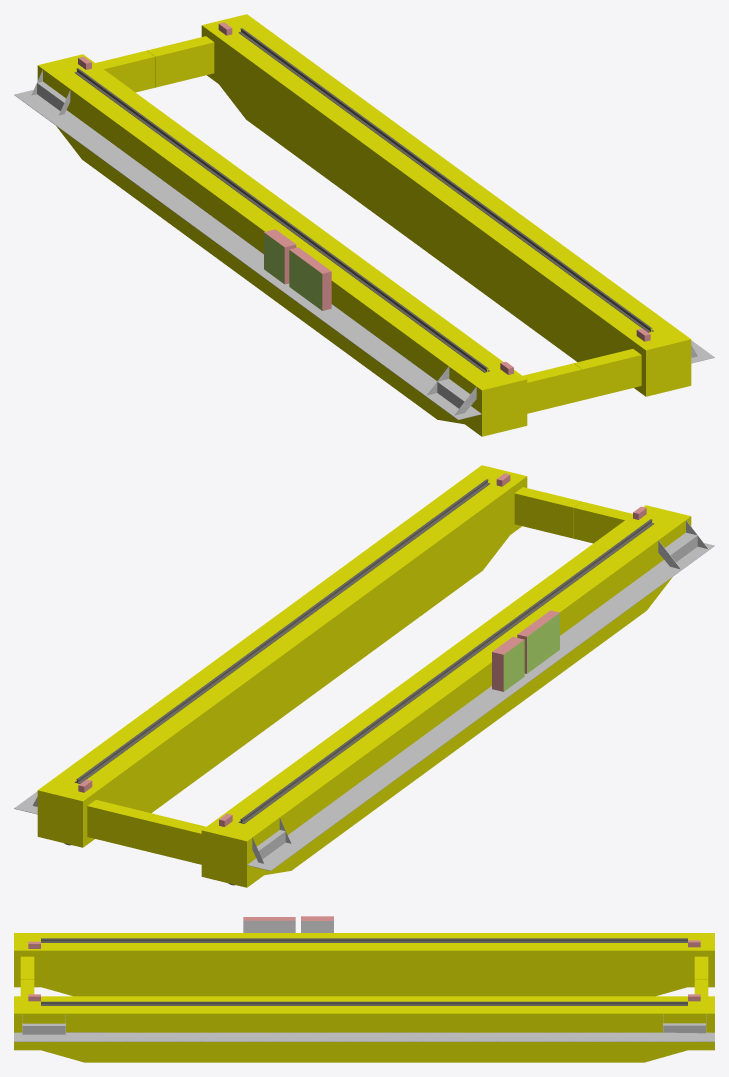
The model's file is crane_rails.dae.
3 renders of one model, top to bottom at view 1: azimuth 30°, elevation 25°; view 2: azimuth 150°, elevation 25°; view 3: azimuth 270°, elevation 25°, orthographic. The views are drawn at different scales.
Visible parts, largest first — view 1: mesh1-geometry_material1_IndexedFaceSet, mesh21-geometry_material1_IndexedFaceSet, mesh57-geometry_material5_IndexedFaceSet, mesh21-geometry_material0_IndexedFaceSet, mesh1-geometry_material0_IndexedFaceSet, mesh66-geometry_material6_IndexedFaceSet, mesh65-geometry_material6_IndexedFaceSet, mesh66-geometry_material2_IndexedFaceSet; view 2: mesh1-geometry_material1_IndexedFaceSet, mesh21-geometry_material1_IndexedFaceSet, mesh57-geometry_material5_IndexedFaceSet, mesh21-geometry_material0_IndexedFaceSet, mesh1-geometry_material0_IndexedFaceSet, mesh66-geometry_material6_IndexedFaceSet, mesh65-geometry_material6_IndexedFaceSet, mesh65-geometry_material2_IndexedFaceSet, mesh56-geometry_material5_IndexedFaceSet; view 3: mesh21-geometry_material1_IndexedFaceSet, mesh1-geometry_material1_IndexedFaceSet, mesh46-geometry_material5_IndexedFaceSet, mesh1-geometry_material0_IndexedFaceSet, mesh21-geometry_material0_IndexedFaceSet, mesh46-geometry_material3_IndexedFaceSet, mesh66-geometry_FrontColorNoCulling_IndexedFaceSet, mesh47-geometry_material5_IndexedFaceSet, mesh48-geometry_material5_IndexedFaceSet, mesh65-geometry_FrontColorNoCulling_IndexedFaceSet.
Part boxes in pixels (x1,y1,x2,y2): mesh1-geometry_material1_IndexedFaceSet: (147, 14, 691, 400); mesh21-geometry_material1_IndexedFaceSet: (37, 50, 582, 436); mesh57-geometry_material5_IndexedFaceSet: (14, 90, 481, 419); mesh21-geometry_material0_IndexedFaceSet: (74, 68, 489, 372); mesh1-geometry_material0_IndexedFaceSet: (238, 28, 653, 332); mesh66-geometry_material6_IndexedFaceSet: (289, 250, 322, 310); mesh65-geometry_material6_IndexedFaceSet: (264, 232, 284, 283); mesh66-geometry_material2_IndexedFaceSet: (289, 247, 331, 310); mesh1-geometry_material1_IndexedFaceSet: (37, 465, 581, 851); mesh21-geometry_material1_IndexedFaceSet: (146, 501, 691, 887); mesh57-geometry_material5_IndexedFaceSet: (247, 543, 714, 870); mesh21-geometry_material0_IndexedFaceSet: (238, 519, 654, 823); mesh1-geometry_material0_IndexedFaceSet: (74, 479, 490, 783); mesh66-geometry_material6_IndexedFaceSet: (527, 613, 559, 673); mesh65-geometry_material6_IndexedFaceSet: (503, 640, 524, 691); mesh65-geometry_material2_IndexedFaceSet: (492, 637, 524, 691); mesh56-geometry_material5_IndexedFaceSet: (252, 817, 291, 863); mesh21-geometry_material1_IndexedFaceSet: (14, 933, 714, 996); mesh1-geometry_material1_IndexedFaceSet: (14, 979, 714, 1062); mesh46-geometry_material5_IndexedFaceSet: (14, 1032, 714, 1041); mesh1-geometry_material0_IndexedFaceSet: (41, 1001, 687, 1005); mesh21-geometry_material0_IndexedFaceSet: (41, 938, 687, 942); mesh46-geometry_material3_IndexedFaceSet: (14, 1032, 714, 1041); mesh66-geometry_FrontColorNoCulling_IndexedFaceSet: (243, 920, 295, 932); mesh47-geometry_material5_IndexedFaceSet: (22, 1023, 65, 1034); mesh48-geometry_material5_IndexedFaceSet: (663, 1023, 705, 1033); mesh65-geometry_FrontColorNoCulling_IndexedFaceSet: (301, 921, 333, 932).
Size of the model in its own units: 4.34 by 1.22 by 13.
